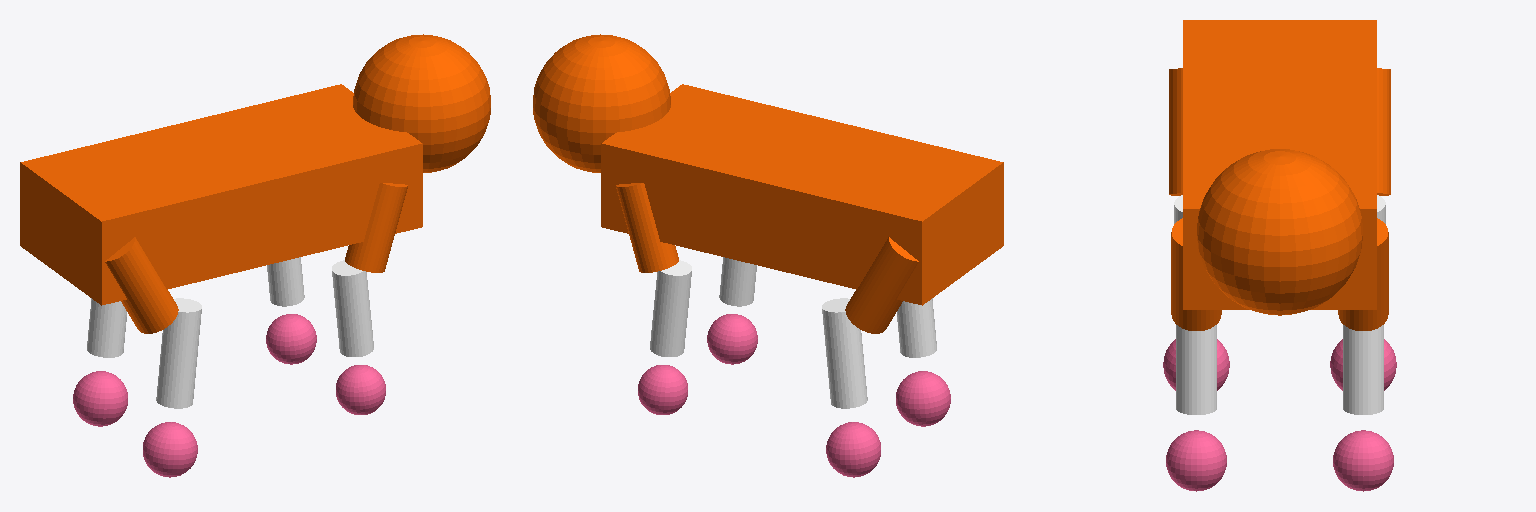
URDF robot description (cat_robot):
<?xml version="1.0"?>
<robot name="cat_robot">

  <material name="orange">
    <color rgba="1.0 0.45 0.05 1.0"/>
  </material>
  <material name="white">
    <color rgba="1.0 1.0 1.0 1.0"/>
  </material>
  <material name="pink">
    <color rgba="1.0 0.45 0.65 1.0"/>
  </material>

  <link name="body">
    <visual>
      <geometry>
        <box size="0.32 0.14 0.08"/>
      </geometry>
      <material name="orange"/>
    </visual>
    <collision>
      <geometry>
        <box size="0.32 0.14 0.08"/>
      </geometry>
    </collision>
    <inertial>
      <mass value="1.5"/>
      <inertia ixx="0.01" ixy="0.0" ixz="0.0" iyy="0.02" iyz="0.0" izz="0.02"/>
    </inertial>
  </link>

  <link name="head">
    <visual>
      <geometry>
        <sphere radius="0.06"/>
      </geometry>
      <material name="orange"/>
    </visual>
    <collision>
      <geometry>
        <sphere radius="0.06"/>
      </geometry>
    </collision>
    <inertial>
      <mass value="0.2"/>
      <inertia ixx="0.0003" ixy="0.0" ixz="0.0" iyy="0.0003" iyz="0.0" izz="0.0003"/>
    </inertial>
  </link>

  <joint name="body_to_head" type="fixed">
    <parent link="body"/>
    <child link="head"/>
    <origin xyz="0.20 0 0.04"/>
  </joint>

  <link name="front_left_upper_leg">
    <visual>
      <geometry>
        <cylinder radius="0.018" length="0.08"/>
      </geometry>
      <material name="orange"/>
    </visual>
    <collision>
      <geometry>
        <cylinder radius="0.018" length="0.08"/>
      </geometry>
    </collision>
    <inertial>
      <mass value="0.05"/>
      <inertia ixx="0.0001" ixy="0.0" ixz="0.0" iyy="0.0001" iyz="0.0" izz="0.0001"/>
    </inertial>
  </link>

  <joint name="front_left_upper_leg_joint" type="fixed">
    <parent link="body"/>
    <child link="front_left_upper_leg"/>
    <origin xyz="0.12 0.06 -0.03" rpy="0 0.3 0"/>
  </joint>

  <link name="front_left_lower_leg">
    <visual>
      <geometry>
        <cylinder radius="0.015" length="0.08"/>
      </geometry>
      <material name="white"/>
    </visual>
    <collision>
      <geometry>
        <cylinder radius="0.015" length="0.08"/>
      </geometry>
    </collision>
    <inertial>
      <mass value="0.04"/>
      <inertia ixx="0.00008" ixy="0.0" ixz="0.0" iyy="0.00008" iyz="0.0" izz="0.00008"/>
    </inertial>
  </link>

  <joint name="front_left_knee_joint" type="fixed">
    <parent link="front_left_upper_leg"/>
    <child link="front_left_lower_leg"/>
    <origin xyz="0 0 -0.08" rpy="0 -0.4 0"/>
  </joint>

  <link name="front_left_paw">
    <visual>
      <geometry>
        <sphere radius="0.022"/>
      </geometry>
      <material name="pink"/>
    </visual>
    <collision>
      <geometry>
        <sphere radius="0.022"/>
      </geometry>
    </collision>
    <inertial>
      <mass value="0.03"/>
      <inertia ixx="0.00004" ixy="0.0" ixz="0.0" iyy="0.00004" iyz="0.0" izz="0.00004"/>
    </inertial>
  </link>

  <joint name="front_left_paw_joint" type="fixed">
    <parent link="front_left_lower_leg"/>
    <child link="front_left_paw"/>
    <origin xyz="0 0 -0.08"/>
  </joint>

  <link name="front_right_upper_leg">
    <visual>
      <geometry>
        <cylinder radius="0.018" length="0.08"/>
      </geometry>
      <material name="orange"/>
    </visual>
    <collision>
      <geometry>
        <cylinder radius="0.018" length="0.08"/>
      </geometry>
    </collision>
    <inertial>
      <mass value="0.05"/>
      <inertia ixx="0.0001" ixy="0.0" ixz="0.0" iyy="0.0001" iyz="0.0" izz="0.0001"/>
    </inertial>
  </link>

  <joint name="front_right_upper_leg_joint" type="fixed">
    <parent link="body"/>
    <child link="front_right_upper_leg"/>
    <origin xyz="0.12 -0.06 -0.03" rpy="0 0.3 0"/>
  </joint>

  <link name="front_right_lower_leg">
    <visual>
      <geometry>
        <cylinder radius="0.015" length="0.08"/>
      </geometry>
      <material name="white"/>
    </visual>
    <collision>
      <geometry>
        <cylinder radius="0.015" length="0.08"/>
      </geometry>
    </collision>
    <inertial>
      <mass value="0.04"/>
      <inertia ixx="0.00008" ixy="0.0" ixz="0.0" iyy="0.00008" iyz="0.0" izz="0.00008"/>
    </inertial>
  </link>

  <joint name="front_right_knee_joint" type="fixed">
    <parent link="front_right_upper_leg"/>
    <child link="front_right_lower_leg"/>
    <origin xyz="0 0 -0.08" rpy="0 -0.4 0"/>
  </joint>

  <link name="front_right_paw">
    <visual>
      <geometry>
        <sphere radius="0.022"/>
      </geometry>
      <material name="pink"/>
    </visual>
    <collision>
      <geometry>
        <sphere radius="0.022"/>
      </geometry>
    </collision>
    <inertial>
      <mass value="0.03"/>
      <inertia ixx="0.00004" ixy="0.0" ixz="0.0" iyy="0.00004" iyz="0.0" izz="0.00004"/>
    </inertial>
  </link>

  <joint name="front_right_paw_joint" type="fixed">
    <parent link="front_right_lower_leg"/>
    <child link="front_right_paw"/>
    <origin xyz="0 0 -0.08"/>
  </joint>

  <link name="back_left_upper_leg">
    <visual>
      <geometry>
        <cylinder radius="0.02" length="0.09"/>
      </geometry>
      <material name="orange"/>
    </visual>
    <collision>
      <geometry>
        <cylinder radius="0.02" length="0.09"/>
      </geometry>
    </collision>
    <inertial>
      <mass value="0.06"/>
      <inertia ixx="0.00012" ixy="0.0" ixz="0.0" iyy="0.00012" iyz="0.0" izz="0.00012"/>
    </inertial>
  </link>

  <joint name="back_left_upper_leg_joint" type="fixed">
    <parent link="body"/>
    <child link="back_left_upper_leg"/>
    <origin xyz="-0.12 0.06 -0.03" rpy="0 -0.5 0"/>
  </joint>

  <link name="back_left_lower_leg">
    <visual>
      <geometry>
        <cylinder radius="0.016" length="0.09"/>
      </geometry>
      <material name="white"/>
    </visual>
    <collision>
      <geometry>
        <cylinder radius="0.016" length="0.09"/>
      </geometry>
    </collision>
    <inertial>
      <mass value="0.05"/>
      <inertia ixx="0.0001" ixy="0.0" ixz="0.0" iyy="0.0001" iyz="0.0" izz="0.0001"/>
    </inertial>
  </link>

  <joint name="back_left_knee_joint" type="fixed">
    <parent link="back_left_upper_leg"/>
    <child link="back_left_lower_leg"/>
    <origin xyz="0 0 -0.09" rpy="0 0.6 0"/>
  </joint>

  <link name="back_left_paw">
    <visual>
      <geometry>
        <sphere radius="0.024"/>
      </geometry>
      <material name="pink"/>
    </visual>
    <collision>
      <geometry>
        <sphere radius="0.024"/>
      </geometry>
    </collision>
    <inertial>
      <mass value="0.03"/>
      <inertia ixx="0.00004" ixy="0.0" ixz="0.0" iyy="0.00004" iyz="0.0" izz="0.00004"/>
    </inertial>
  </link>

  <joint name="back_left_paw_joint" type="fixed">
    <parent link="back_left_lower_leg"/>
    <child link="back_left_paw"/>
    <origin xyz="0 0 -0.09"/>
  </joint>

  <link name="back_right_upper_leg">
    <visual>
      <geometry>
        <cylinder radius="0.02" length="0.09"/>
      </geometry>
      <material name="orange"/>
    </visual>
    <collision>
      <geometry>
        <cylinder radius="0.02" length="0.09"/>
      </geometry>
    </collision>
    <inertial>
      <mass value="0.06"/>
      <inertia ixx="0.00012" ixy="0.0" ixz="0.0" iyy="0.00012" iyz="0.0" izz="0.00012"/>
    </inertial>
  </link>

  <joint name="back_right_upper_leg_joint" type="fixed">
    <parent link="body"/>
    <child link="back_right_upper_leg"/>
    <origin xyz="-0.12 -0.06 -0.03" rpy="0 -0.5 0"/>
  </joint>

  <link name="back_right_lower_leg">
    <visual>
      <geometry>
        <cylinder radius="0.016" length="0.09"/>
      </geometry>
      <material name="white"/>
    </visual>
    <collision>
      <geometry>
        <cylinder radius="0.016" length="0.09"/>
      </geometry>
    </collision>
    <inertial>
      <mass value="0.05"/>
      <inertia ixx="0.0001" ixy="0.0" ixz="0.0" iyy="0.0001" iyz="0.0" izz="0.0001"/>
    </inertial>
  </link>

  <joint name="back_right_knee_joint" type="fixed">
    <parent link="back_right_upper_leg"/>
    <child link="back_right_lower_leg"/>
    <origin xyz="0 0 -0.09" rpy="0 0.6 0"/>
  </joint>

  <link name="back_right_paw">
    <visual>
      <geometry>
        <sphere radius="0.024"/>
      </geometry>
      <material name="pink"/>
    </visual>
    <collision>
      <geometry>
        <sphere radius="0.024"/>
      </geometry>
    </collision>
    <inertial>
      <mass value="0.03"/>
      <inertia ixx="0.00004" ixy="0.0" ixz="0.0" iyy="0.00004" iyz="0.0" izz="0.00004"/>
    </inertial>
  </link>

  <joint name="back_right_paw_joint" type="fixed">
    <parent link="back_right_lower_leg"/>
    <child link="back_right_paw"/>
    <origin xyz="0 0 -0.09"/>
  </joint>

  <gazebo>
    <plugin name="cat_planar_move" filename="libgazebo_ros_planar_move.so">
      <ros>
        <namespace>/</namespace>
        <remapping>cmd_vel:=/cmd_vel</remapping>
        <remapping>odom:=/cat_odom</remapping>
      </ros>
      <update_rate>100</update_rate>
      <publish_rate>30</publish_rate>
      <publish_odom>true</publish_odom>
      <publish_odom_tf>true</publish_odom_tf>
      <odometry_frame>odom</odometry_frame>
      <robot_base_frame>body</robot_base_frame>
    </plugin>
  </gazebo>

</robot>

--- Render facts (derived) ---
Views: 3 orthographic renders of the robot side by side, from view 1: azimuth 30°, elevation 25°; view 2: azimuth 150°, elevation 25°; view 3: azimuth 270°, elevation 25°.
Model cat_robot with 14 links and 13 joints (13 fixed), rooted at body, posed all joints at 0.
Links seen in each view (by area): view 1: body, head, back_right_upper_leg, back_right_lower_leg, front_right_lower_leg, front_right_upper_leg, back_left_paw, back_right_paw, front_left_paw, front_right_paw, back_left_lower_leg, front_left_lower_leg; view 2: body, head, back_left_upper_leg, back_left_lower_leg, front_left_lower_leg, front_left_upper_leg, back_right_paw, back_left_paw, front_right_paw, front_left_paw, back_right_lower_leg, front_right_lower_leg; view 3: body, head, front_left_lower_leg, front_right_lower_leg, front_left_paw, front_right_paw, front_left_upper_leg, front_right_upper_leg, back_left_upper_leg, back_right_upper_leg, back_left_paw, back_right_paw.
Link boxes in pixels (x1=…): body: x1=20, y1=84, x2=422, y2=305; head: x1=353, y1=34, x2=490, y2=172; back_right_upper_leg: x1=105, y1=237, x2=178, y2=333; back_right_lower_leg: x1=156, y1=298, x2=201, y2=408; front_right_lower_leg: x1=332, y1=260, x2=373, y2=356; front_right_upper_leg: x1=345, y1=183, x2=407, y2=272; back_left_paw: x1=73, y1=371, x2=127, y2=426; back_right_paw: x1=143, y1=422, x2=197, y2=477; front_left_paw: x1=266, y1=314, x2=316, y2=364; front_right_paw: x1=336, y1=365, x2=385, y2=414; back_left_lower_leg: x1=87, y1=298, x2=126, y2=357; front_left_lower_leg: x1=267, y1=257, x2=304, y2=306; body: x1=601, y1=84, x2=1003, y2=305; head: x1=533, y1=34, x2=670, y2=172; back_left_upper_leg: x1=845, y1=237, x2=918, y2=333; back_left_lower_leg: x1=822, y1=298, x2=867, y2=408; front_left_lower_leg: x1=650, y1=260, x2=691, y2=356; front_left_upper_leg: x1=616, y1=183, x2=678, y2=272; back_right_paw: x1=896, y1=371, x2=950, y2=426; back_left_paw: x1=826, y1=422, x2=880, y2=477; front_right_paw: x1=707, y1=314, x2=757, y2=364; front_left_paw: x1=638, y1=365, x2=687, y2=414; back_right_lower_leg: x1=897, y1=298, x2=936, y2=357; front_right_lower_leg: x1=719, y1=257, x2=756, y2=306; body: x1=1183, y1=20, x2=1376, y2=309; head: x1=1197, y1=149, x2=1362, y2=315; front_left_lower_leg: x1=1343, y1=325, x2=1383, y2=414; front_right_lower_leg: x1=1176, y1=325, x2=1216, y2=414; front_left_paw: x1=1333, y1=430, x2=1393, y2=491; front_right_paw: x1=1166, y1=430, x2=1226, y2=491; front_left_upper_leg: x1=1338, y1=218, x2=1388, y2=330; front_right_upper_leg: x1=1171, y1=218, x2=1221, y2=330; back_left_upper_leg: x1=1377, y1=68, x2=1390, y2=195; back_right_upper_leg: x1=1169, y1=68, x2=1182, y2=195; back_left_paw: x1=1330, y1=339, x2=1396, y2=390; back_right_paw: x1=1163, y1=339, x2=1229, y2=390.
Size in the robot's own frame: 0.42 by 0.168 by 0.3224 metres.
Geometry: primitives only (box / cylinder / sphere), no mesh files.
